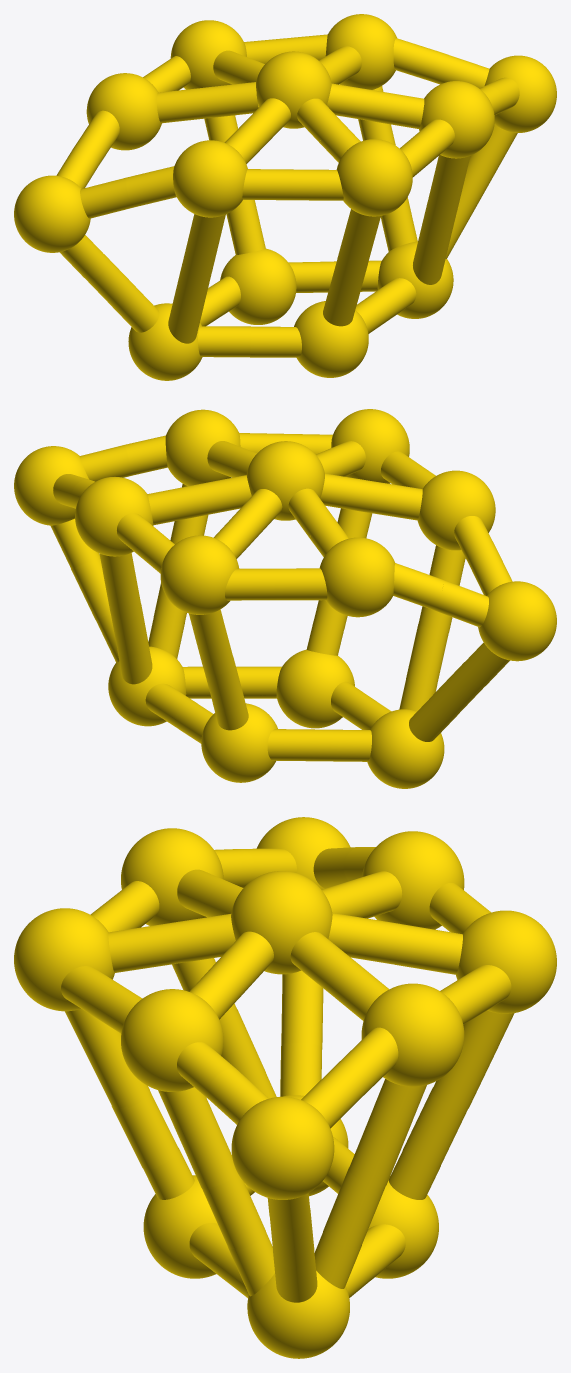
The model's file is Niquel.fbx.
The picture shows the model from 3 angles, top to bottom: view 1: azimuth 30°, elevation 25°; view 2: azimuth 150°, elevation 25°; view 3: azimuth 270°, elevation 25°; orthographic projection. The views are drawn at different scales.
Visible parts, largest first — view 1: Mesh.035; view 2: Mesh.035; view 3: Mesh.035.
Boxes of the visible parts, <box> form: Mesh.035: <box>14,14,556,380</box>; Mesh.035: <box>14,409,556,788</box>; Mesh.035: <box>14,817,556,1358</box>.
Size of the model in its own units: 2448 by 1323 by 1644.
